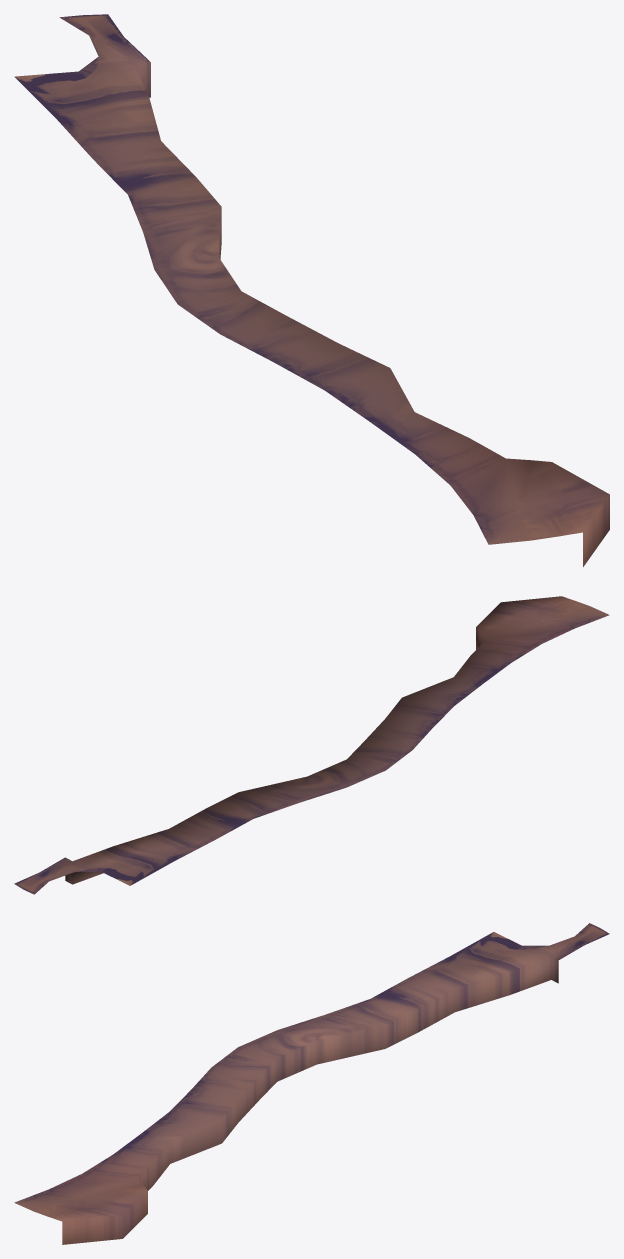
Rendered from SM_eauOnboarding.fbx.
The picture shows the model from 3 angles, top to bottom: view 1: azimuth 30°, elevation 25°; view 2: azimuth 150°, elevation 25°; view 3: azimuth 330°, elevation 25°; orthographic projection. The views are drawn at different scales.
Parts seen in each view (by area): view 1: SM_terrainOnboarding_2.001; view 2: SM_terrainOnboarding_2.001; view 3: SM_terrainOnboarding_2.001.
Boxes of the visible parts, x1=… form: SM_terrainOnboarding_2.001: x1=14, y1=14, x2=609, y2=566; SM_terrainOnboarding_2.001: x1=14, y1=596, x2=609, y2=894; SM_terrainOnboarding_2.001: x1=14, y1=923, x2=609, y2=1244.
Size of the model in its own units: 1225 by 160 by 5412.
